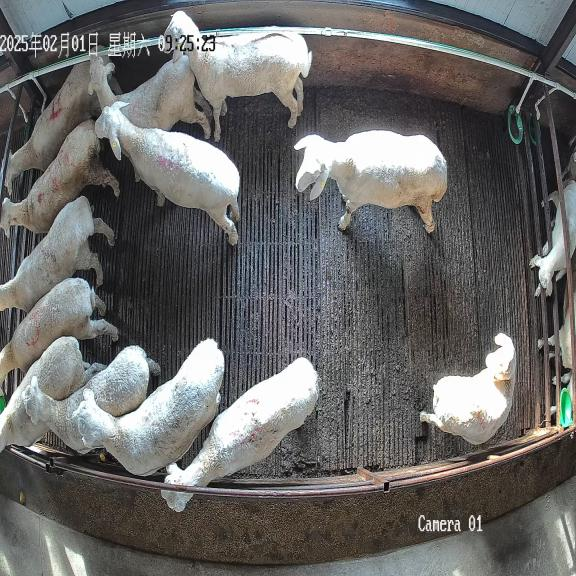stand: (161, 357, 319, 512), (95, 101, 240, 245), (72, 339, 224, 476), (160, 11, 312, 142), (294, 130, 447, 233), (24, 345, 160, 451), (0, 119, 119, 235), (0, 196, 114, 312), (4, 61, 101, 187), (0, 278, 117, 382), (420, 333, 516, 444), (89, 54, 212, 138), (0, 336, 89, 452)
